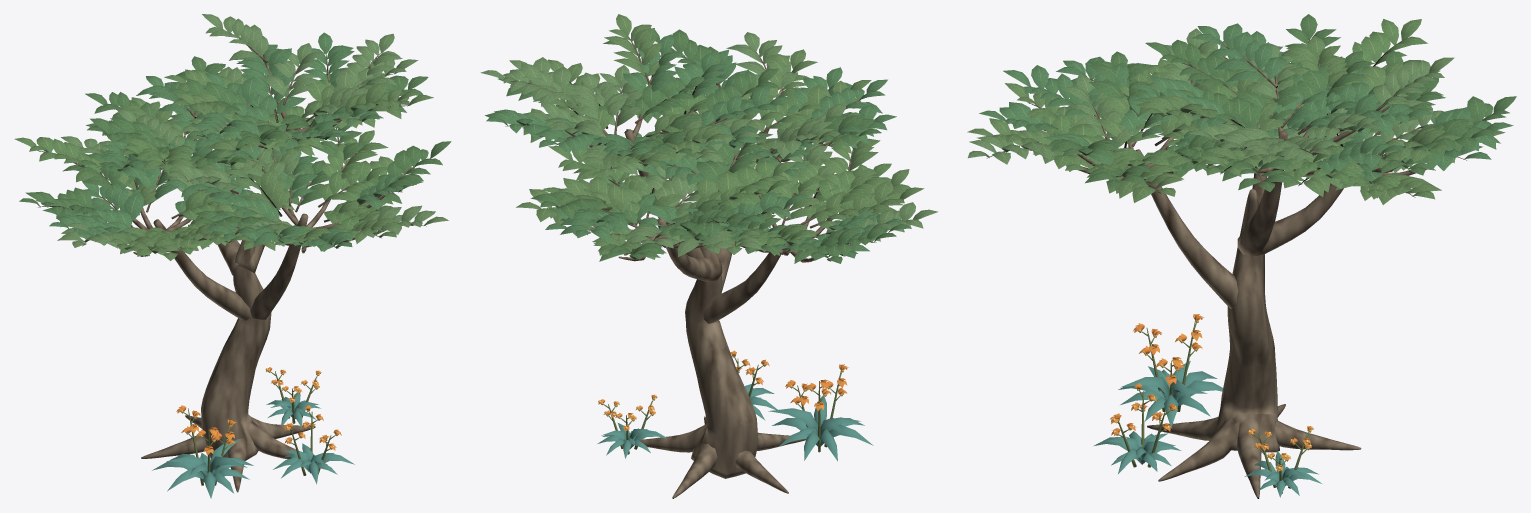
The model's file is desert_tree.glb.
3 views of the same model, side by side, from view 1: azimuth 30°, elevation 25°; view 2: azimuth 150°, elevation 25°; view 3: azimuth 270°, elevation 25° (orthographic). The views are drawn at different scales.
Visible parts, largest first — view 1: Layered sage canopy, Twisted trunk and branches, Root rosettes, Small golden flowers, Flower stems; view 2: Layered sage canopy, Twisted trunk and branches, Root rosettes, Small golden flowers, Flower stems; view 3: Layered sage canopy, Twisted trunk and branches, Root rosettes, Small golden flowers, Flower stems.
Boxes of the visible parts, bbox=[...] form: Layered sage canopy: bbox=[14, 14, 451, 260]; Twisted trunk and branches: bbox=[38, 38, 430, 492]; Root rosettes: bbox=[152, 393, 354, 498]; Small golden flowers: bbox=[176, 367, 341, 455]; Flower stems: bbox=[183, 371, 335, 485]; Layered sage canopy: bbox=[480, 14, 938, 263]; Twisted trunk and branches: bbox=[505, 36, 876, 498]; Root rosettes: bbox=[597, 383, 873, 461]; Small golden flowers: bbox=[598, 350, 848, 430]; Flower stems: bbox=[603, 356, 842, 454]; Layered sage canopy: bbox=[967, 14, 1516, 204]; Twisted trunk and branches: bbox=[986, 39, 1466, 498]; Root rosettes: bbox=[1094, 361, 1321, 497]; Small golden flowers: bbox=[1110, 314, 1313, 471]; Flower stems: bbox=[1117, 320, 1309, 493].
Bounding box in the file's own units: 4.6 × 4.09 × 4.72.
6 materials, 2 textured.
